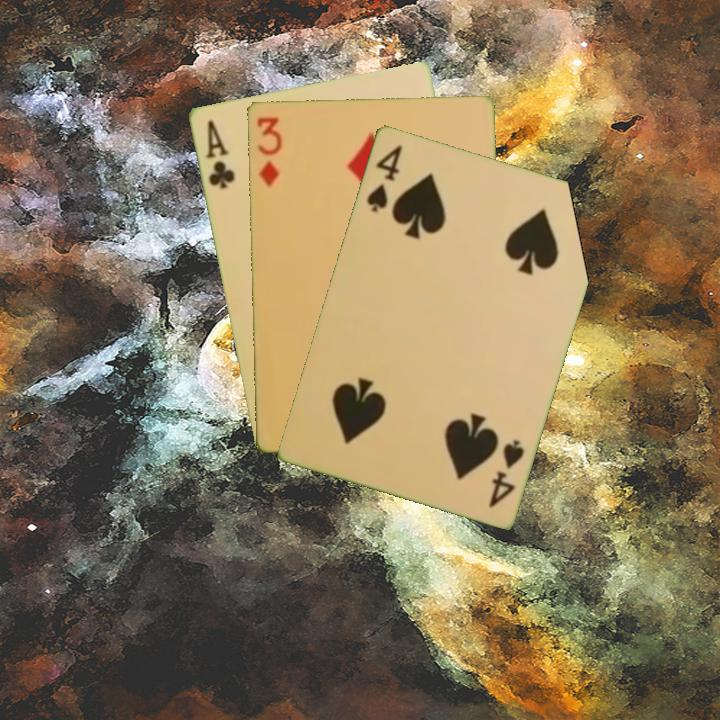3d: (253, 113, 284, 190)
4s: (484, 435, 527, 510), (363, 140, 405, 215)
Ac: (202, 116, 237, 192)
